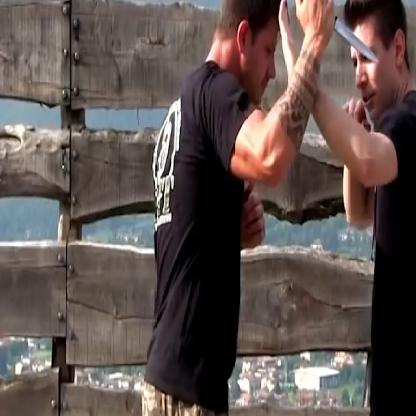knife: (294, 0, 381, 65)
